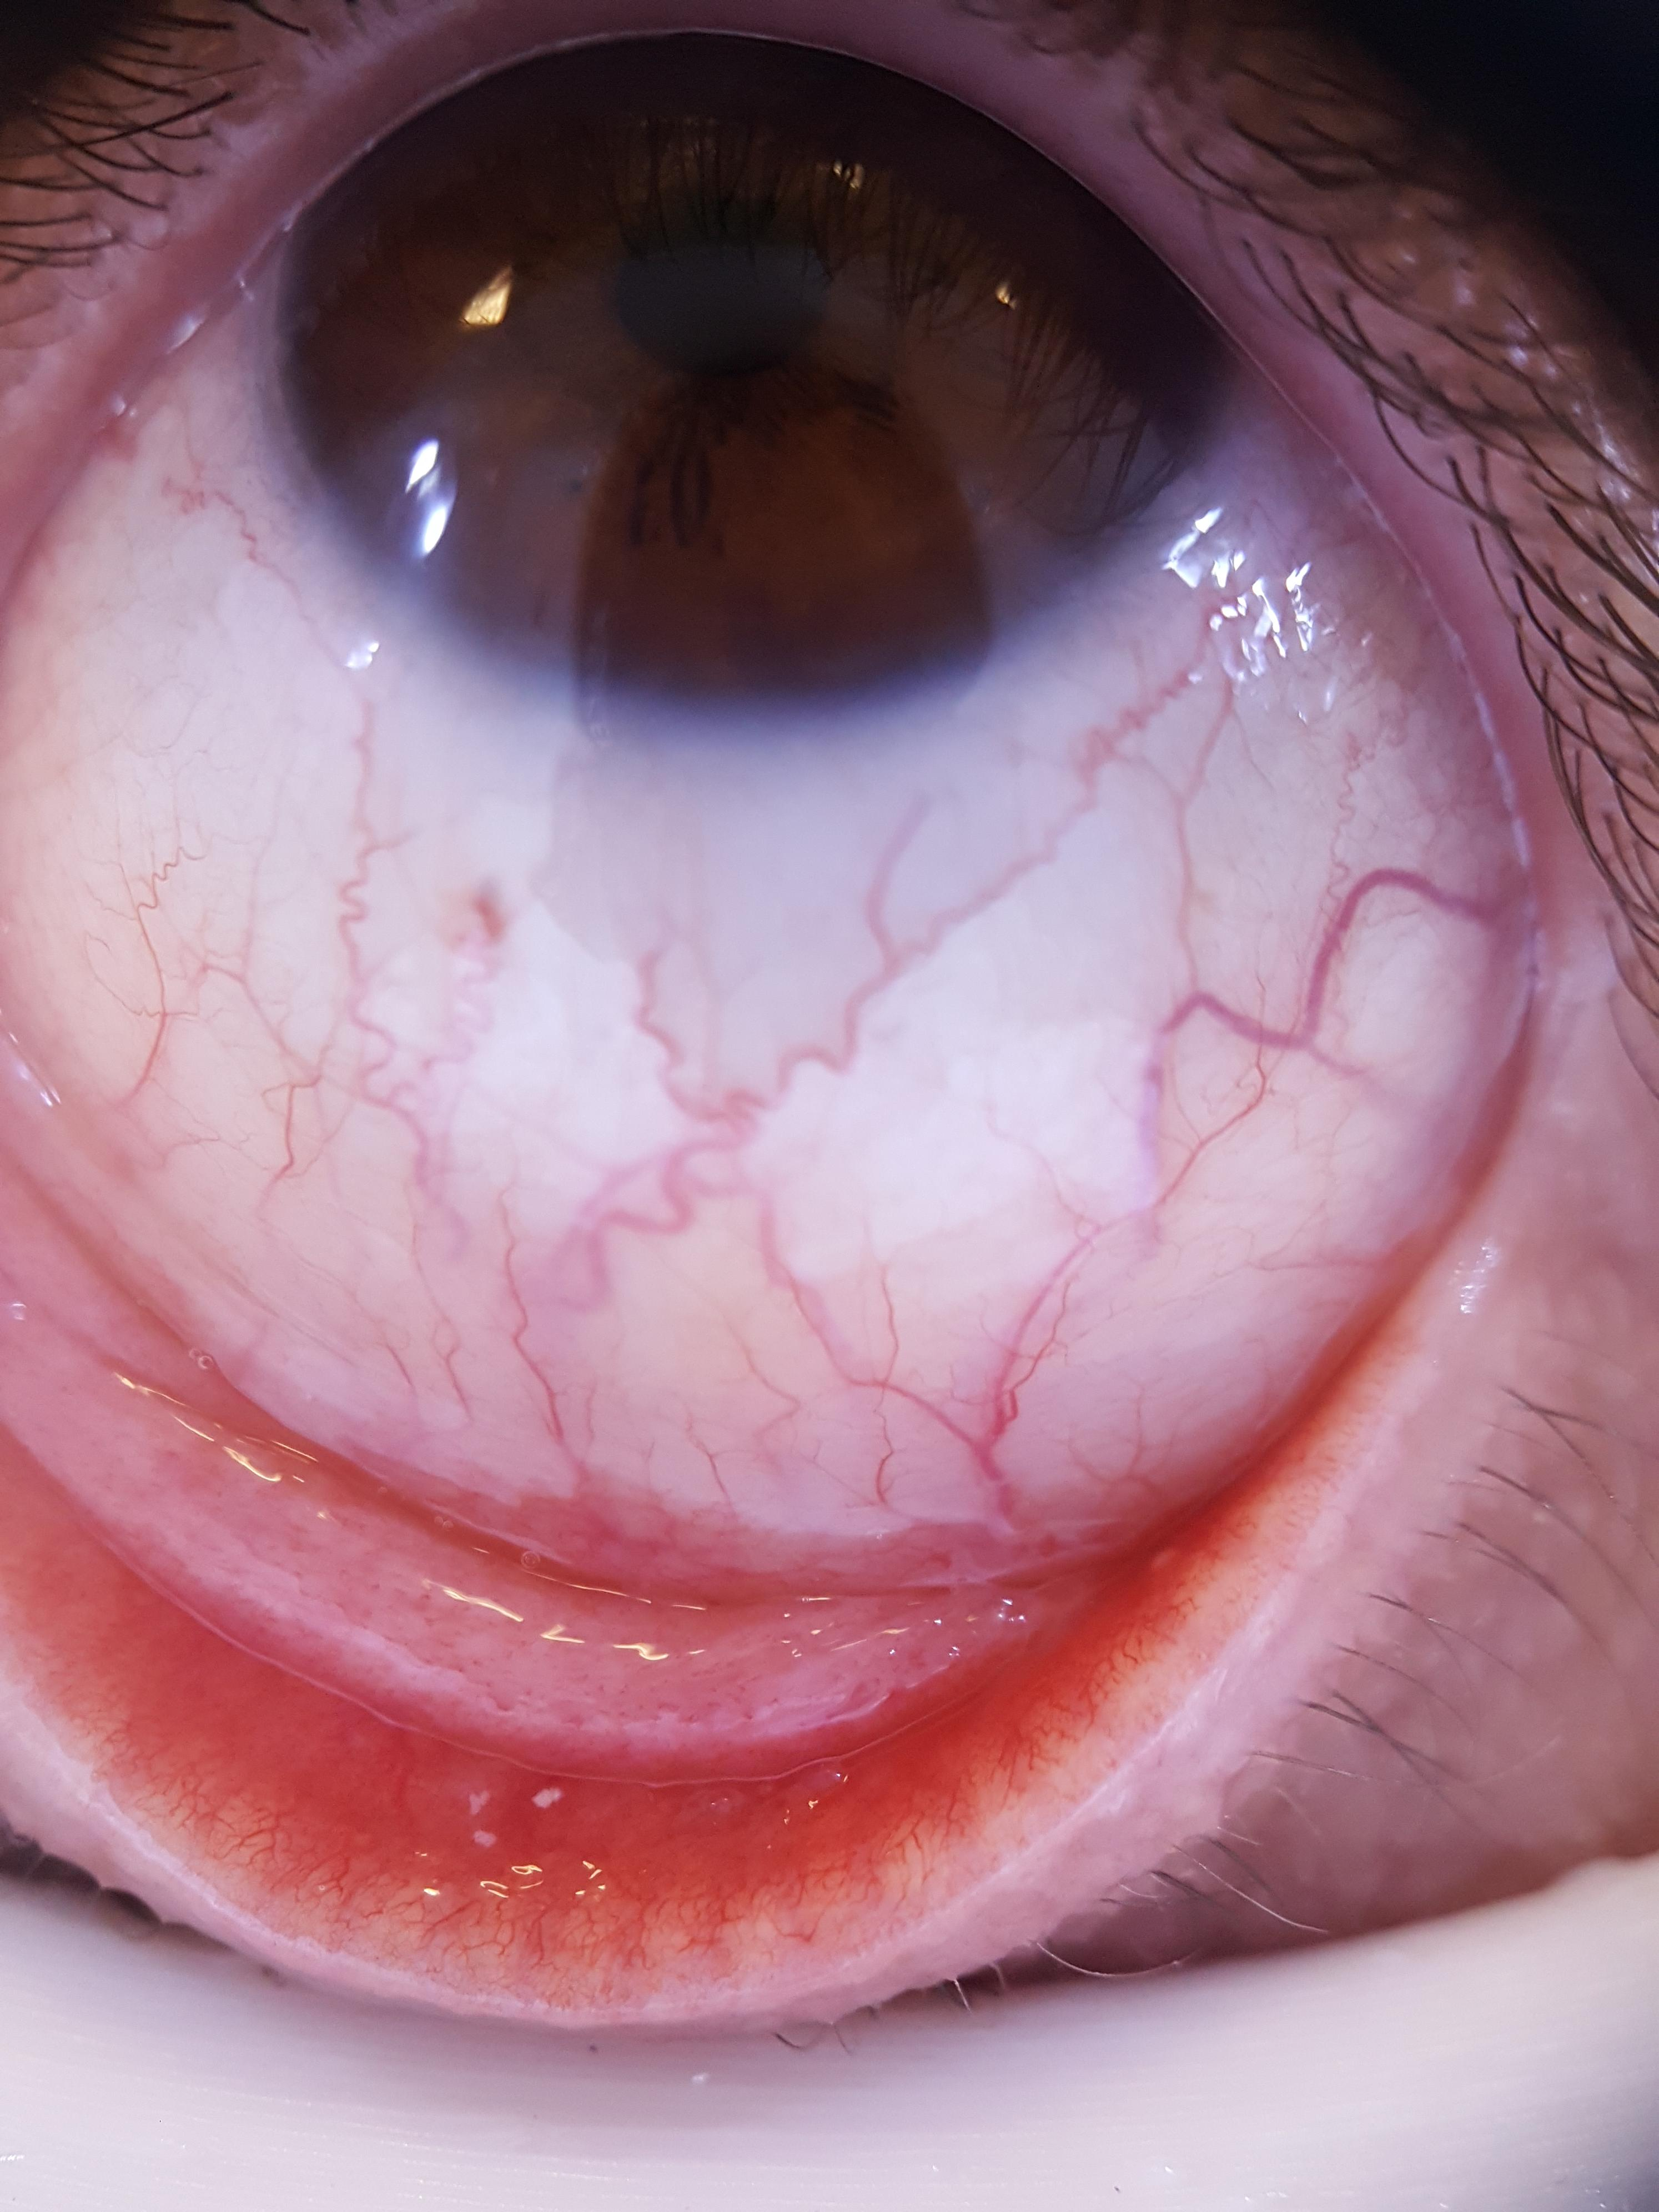forniceal: (0, 1174, 1080, 1780)
forniceal_palpebral: (0, 1160, 1347, 1968)
palpebral: (0, 1402, 1324, 1963)
